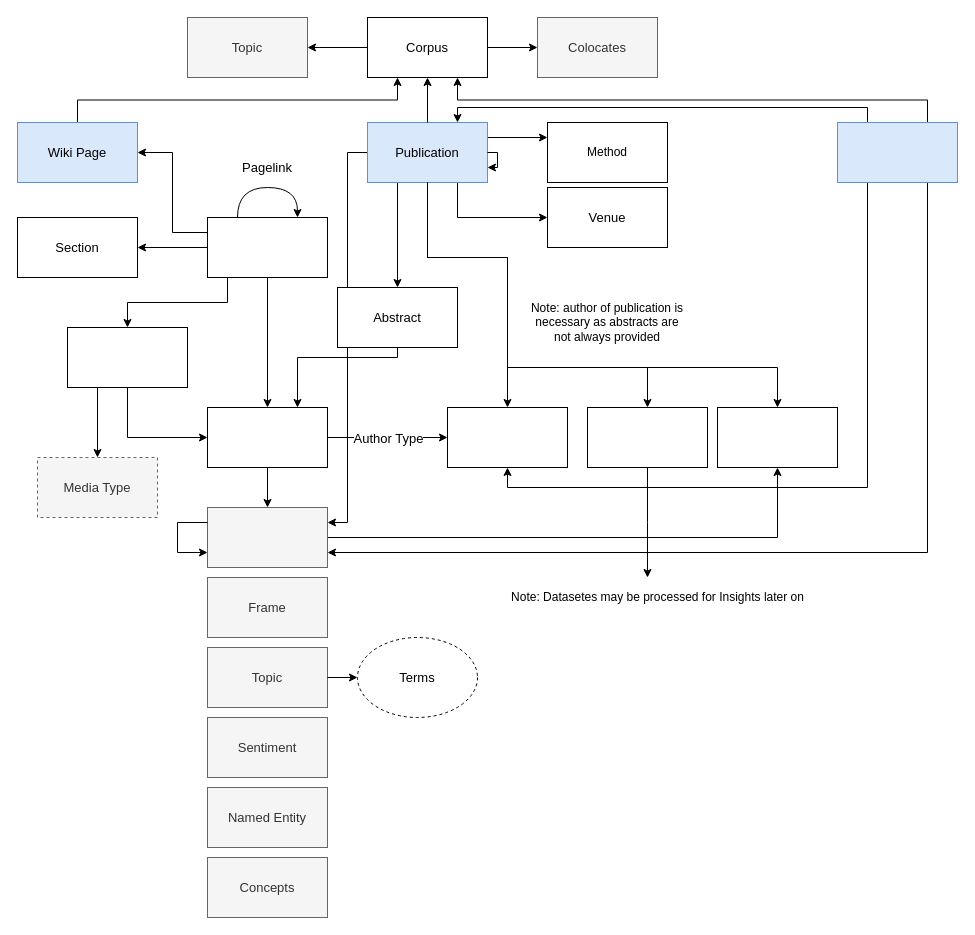
Some shapes in this 975 by 935 pixel diagram are drawn without their labels. Here are the shapes that lost their labels. From the top down, the centre of each, then its label:
At pixel 897 152: "Repository".
At pixel 267 247: "Revision".
At pixel 127 357: "Web Ressource".
At pixel 267 437: "Text Node".
At pixel 507 437: "Person".
At pixel 647 437: "Data Node".
At pixel 777 437: "Category".
At pixel 267 537: "Key Term".
